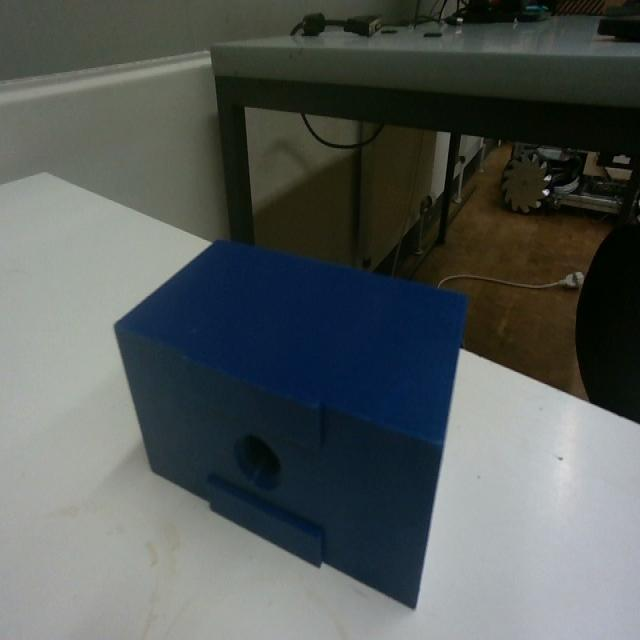Blue Cuboid: (112, 232, 470, 609)
